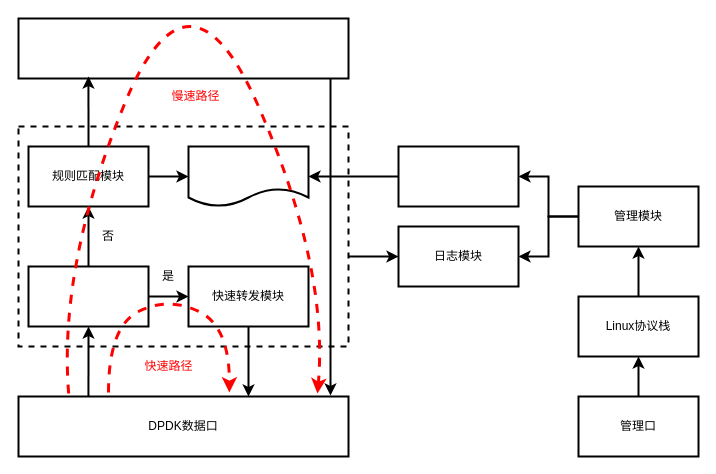
The diagram is 716 pixels wide and 474 high, and some of its shapes have lost their labels. Here are the shapes that lost their labels. From the top down, the centre of each, then its label:
At [183,48]: "f-stack".
At [248,176]: "规则集".
At [458,176]: "策略配置模块".
At [88,296]: "流缓存查询模块".
